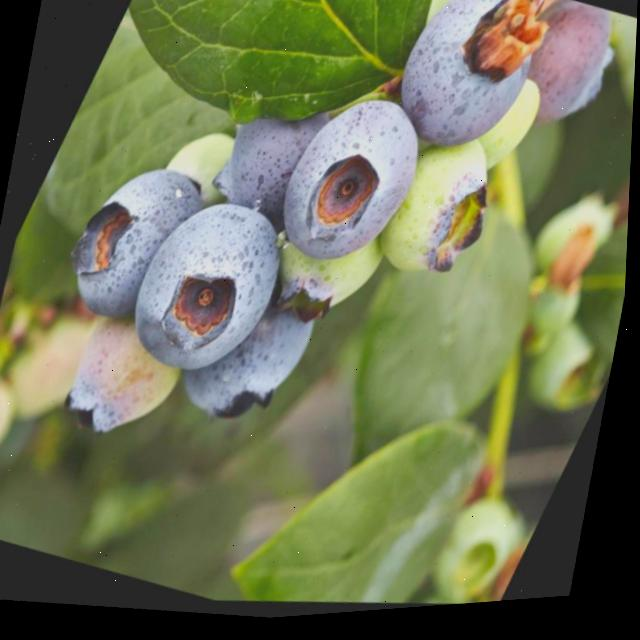RipeBlueBerry: (97, 172, 314, 413), (247, 73, 449, 303), (360, 0, 567, 195), (40, 138, 212, 350)
